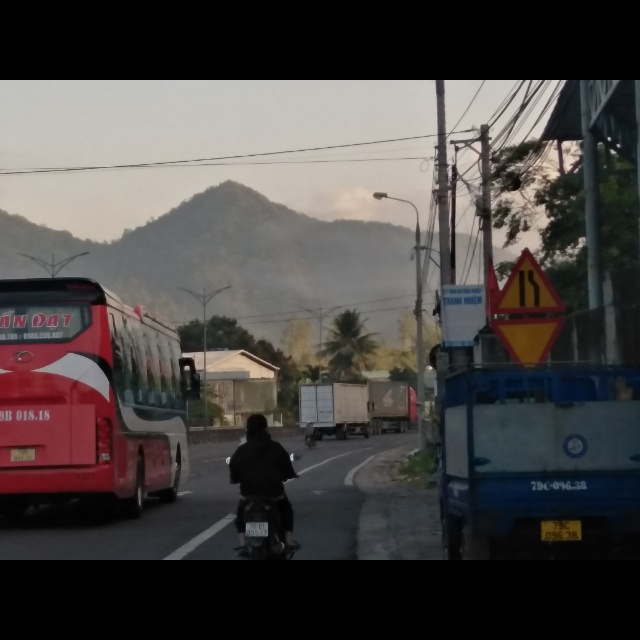Giao nhau với đường ưu tiên: (491, 315, 566, 365)
Đường bị hẹp bên phải: (489, 246, 564, 315)
